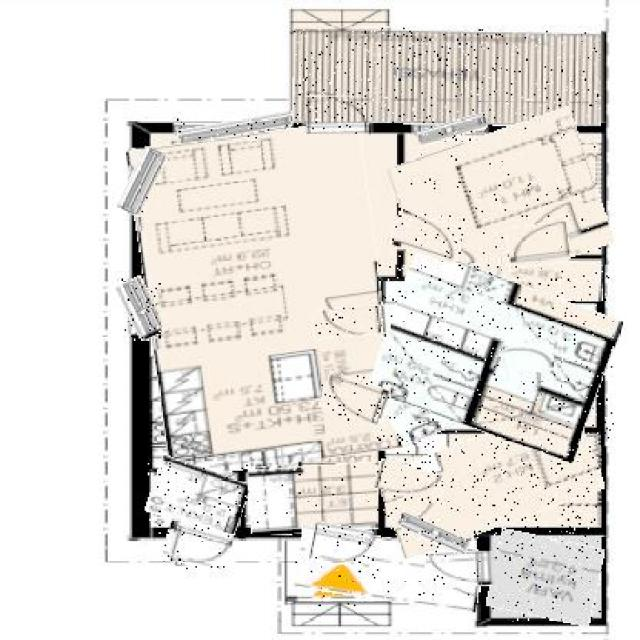door: (390, 214, 464, 260), (163, 523, 232, 569), (322, 375, 391, 420), (311, 524, 374, 568), (426, 552, 499, 588), (374, 462, 443, 500), (508, 223, 568, 266), (306, 95, 368, 134), (314, 306, 391, 337), (501, 340, 554, 377)
window: (177, 115, 292, 138), (125, 148, 162, 217), (122, 277, 162, 340), (397, 520, 471, 548), (417, 117, 488, 141)
zone: (137, 126, 392, 472), (378, 265, 616, 446), (396, 120, 606, 291), (294, 28, 600, 124), (380, 419, 602, 543), (296, 532, 482, 606), (491, 534, 602, 621), (248, 464, 378, 534), (383, 357, 492, 438), (148, 461, 248, 534), (498, 258, 604, 302)
